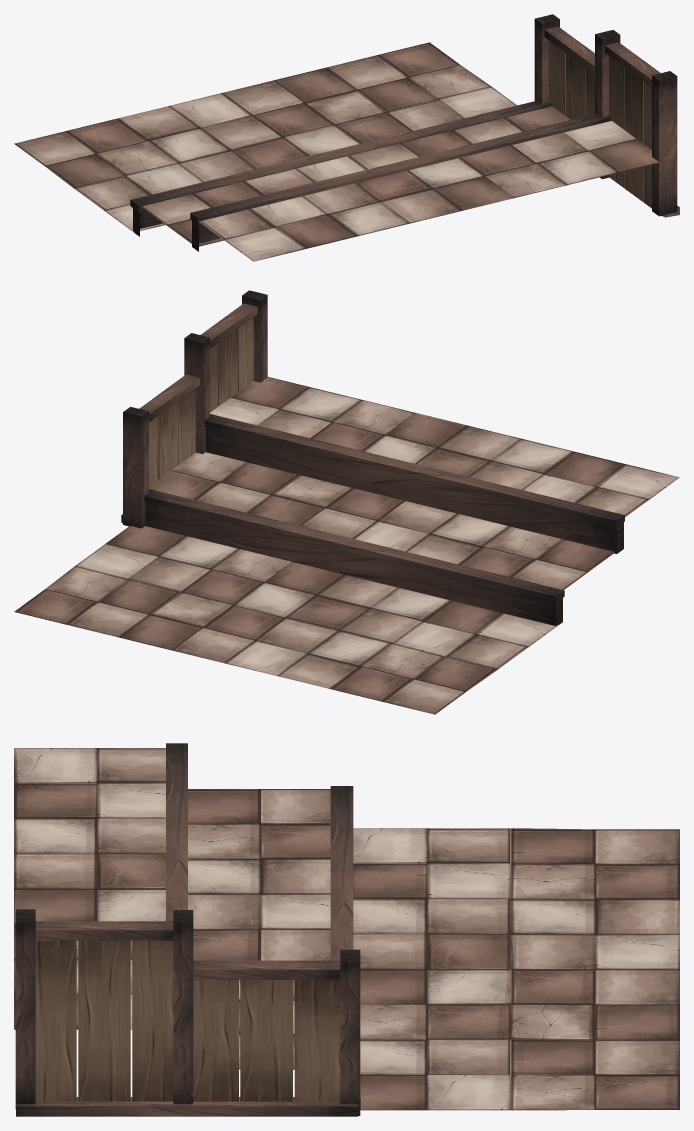
Rendered from Straight2_wall_end_half.fbx.
3 views of the same model, one above another, from view 1: azimuth 30°, elevation 25°; view 2: azimuth 150°, elevation 25°; view 3: azimuth 270°, elevation 25° (orthographic). The views are drawn at different scales.
Parts seen in each view (by area): view 1: Straight2_end_half; view 2: Straight2_end_half; view 3: Straight2_end_half.
Boxes of the visible parts, x1,y1,x2,y2 form: Straight2_end_half: (14,14,679,261); Straight2_end_half: (14,290,679,714); Straight2_end_half: (14,743,679,1116).
Bounding box in the file's own units: 0.6185 × 0.1945 × 0.6027.
